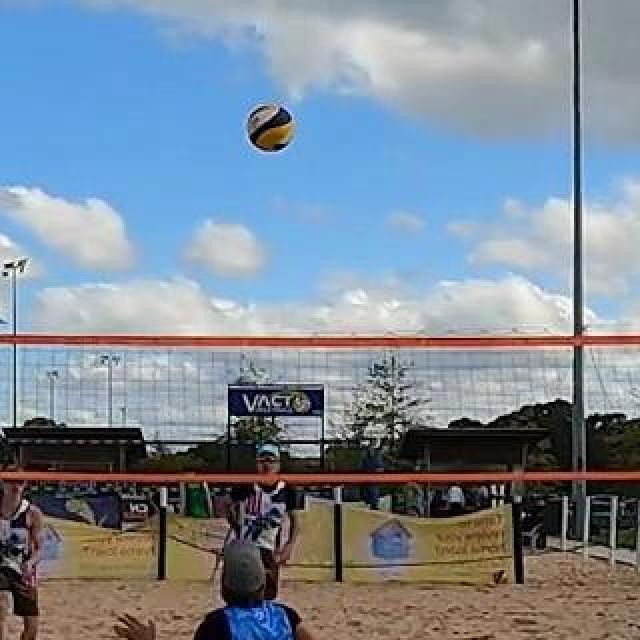volleyball: (246, 104, 292, 152), (493, 568, 509, 584)
